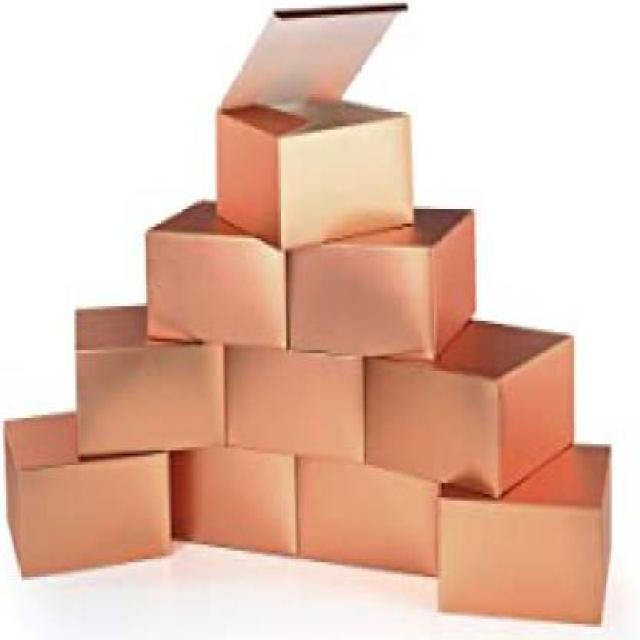box: (209, 3, 428, 266), (359, 311, 586, 504), (428, 425, 626, 635), (288, 197, 484, 357), (62, 282, 230, 462), (5, 414, 178, 587), (282, 436, 442, 622), (137, 198, 289, 368), (169, 422, 303, 600), (227, 350, 359, 462)
